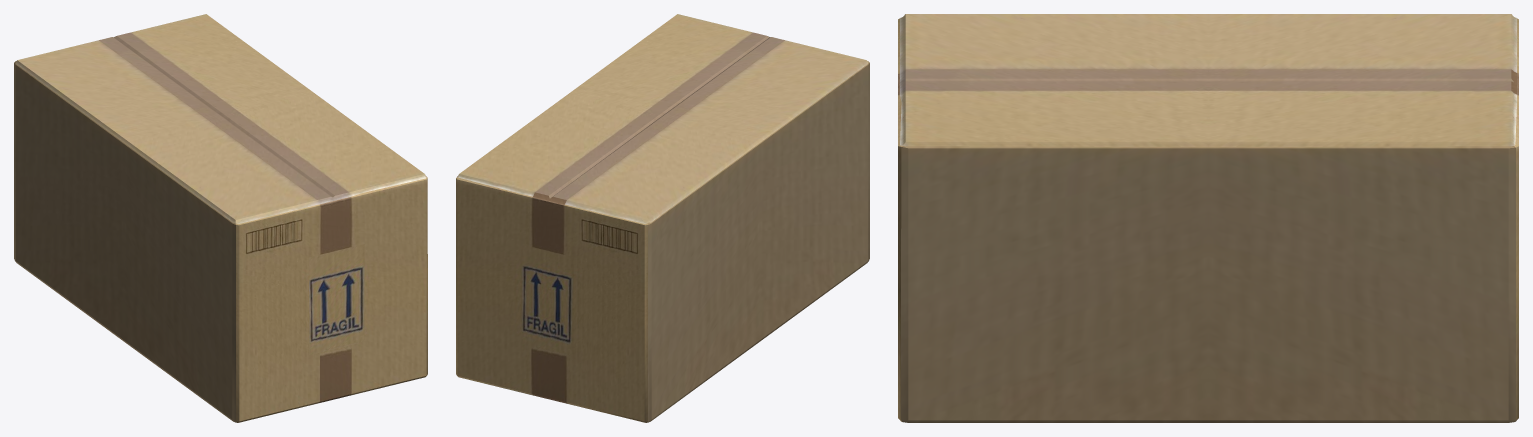
File: cardboard_box.glb
The picture shows the model from 3 angles, left to right: view 1: azimuth 30°, elevation 25°; view 2: azimuth 150°, elevation 25°; view 3: azimuth 270°, elevation 25°; orthographic projection. The views are drawn at different scales.
Parts seen in each view (by area): view 1: Box_A; view 2: Box_A; view 3: Box_A.
Boxes of the visible parts, x1,y1,x2,y2 form: Box_A: [14, 14, 427, 422]; Box_A: [456, 14, 869, 422]; Box_A: [898, 14, 1518, 422].
Size of what is drawn, in the model's own units: 0.3 by 0.3 by 0.6.
1 material, 1 textured.
